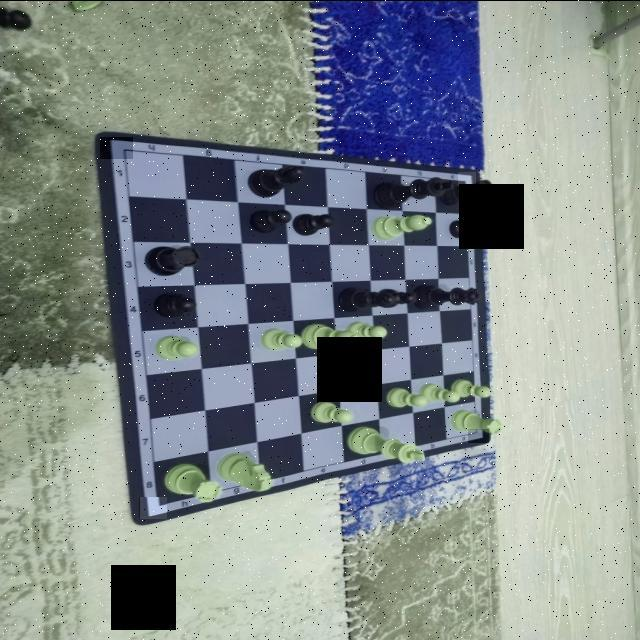chess-table-corners: (100, 136, 133, 158), (138, 496, 166, 518), (468, 428, 489, 442), (458, 171, 476, 185)
